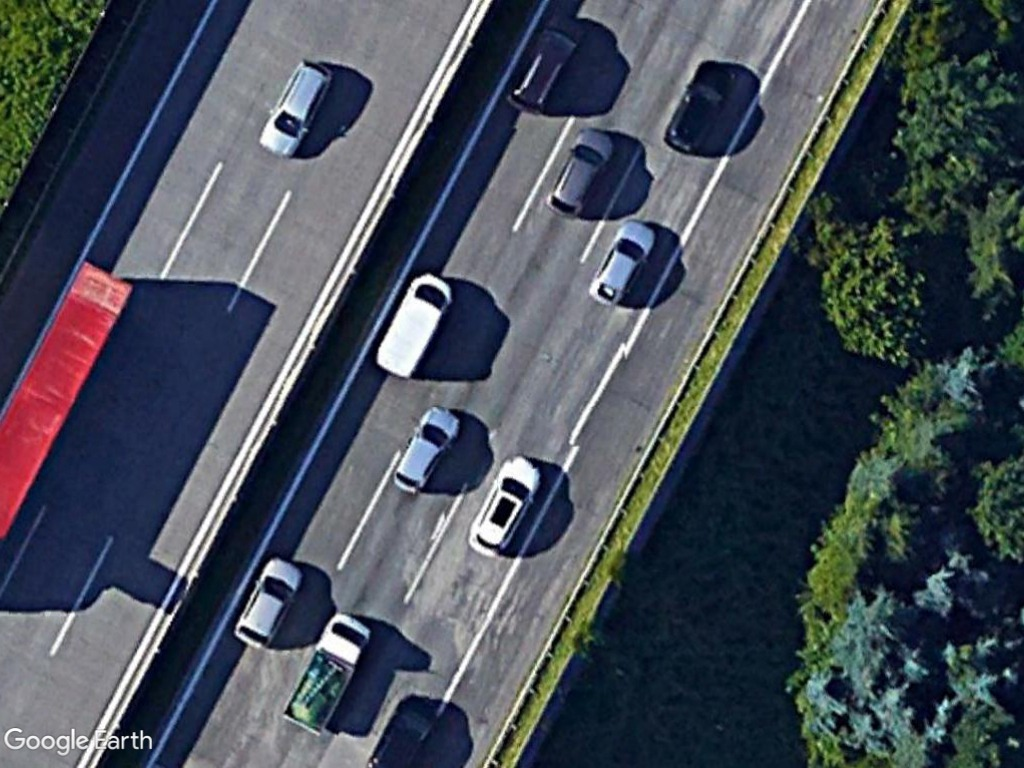car: (502, 7, 585, 121), (464, 449, 546, 562), (257, 52, 338, 164), (659, 55, 744, 159), (230, 550, 311, 654), (543, 121, 617, 220), (392, 401, 464, 497), (587, 216, 660, 309)
van: (368, 267, 458, 381)
